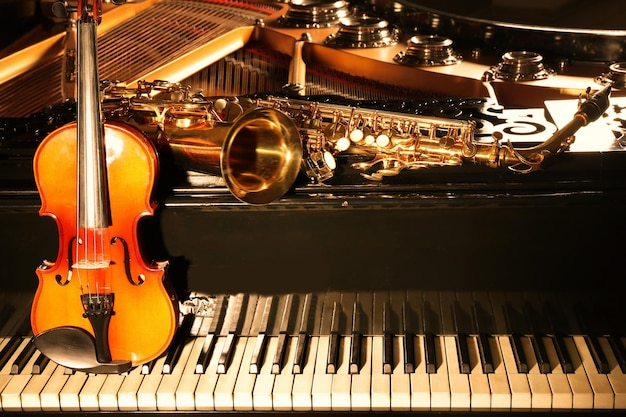Piano: (3, 248, 626, 417)
Saxophone: (105, 51, 572, 200)
Violin: (1, 1, 196, 371)
